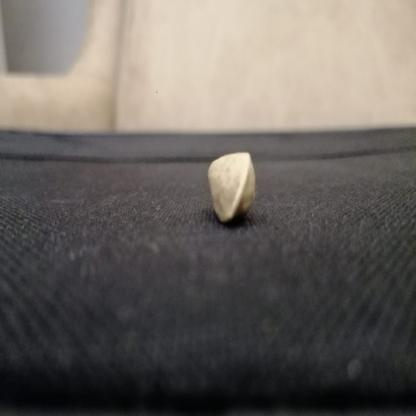pistachio: (201, 147, 266, 223)
